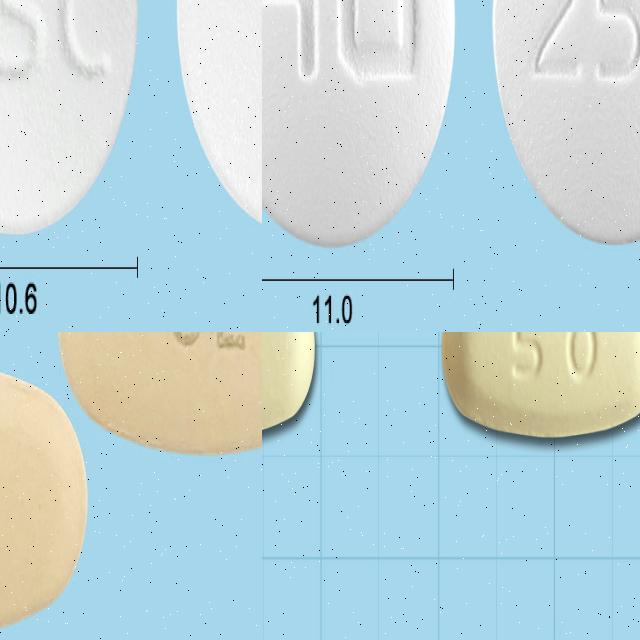Ciprofloxacin Tab- Samsung: (0, 0, 144, 238), (174, 0, 262, 244)
Ciquroby: (262, 0, 462, 252), (488, 0, 640, 249)
Claroad: (441, 332, 640, 444)
Clathron - 500mg: (0, 359, 90, 640), (56, 332, 262, 454)
